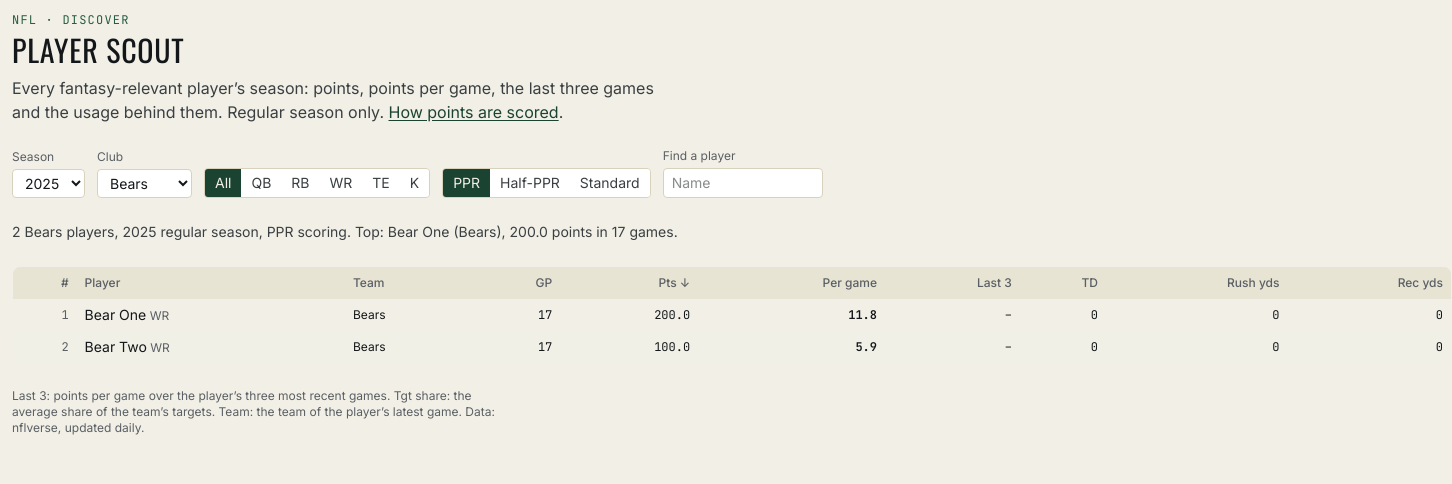
Test: NFL Player Scout club filter › filters by club from the URL and the dropdown, and the summary names the club
This screenshot has width=1452, height=484.
Check: the number of rows with test id "nfl-scout-row" is 2, box [12, 299, 1451, 331]; [12, 331, 1451, 364]
Check: the text with test id "nfl-scout-summary" shows "2 Bears players", box [12, 223, 678, 240]
Select "All clubs" in the dropdown with test id "nfl-scout-club": coordinates (144, 184) [97, 169, 192, 198]
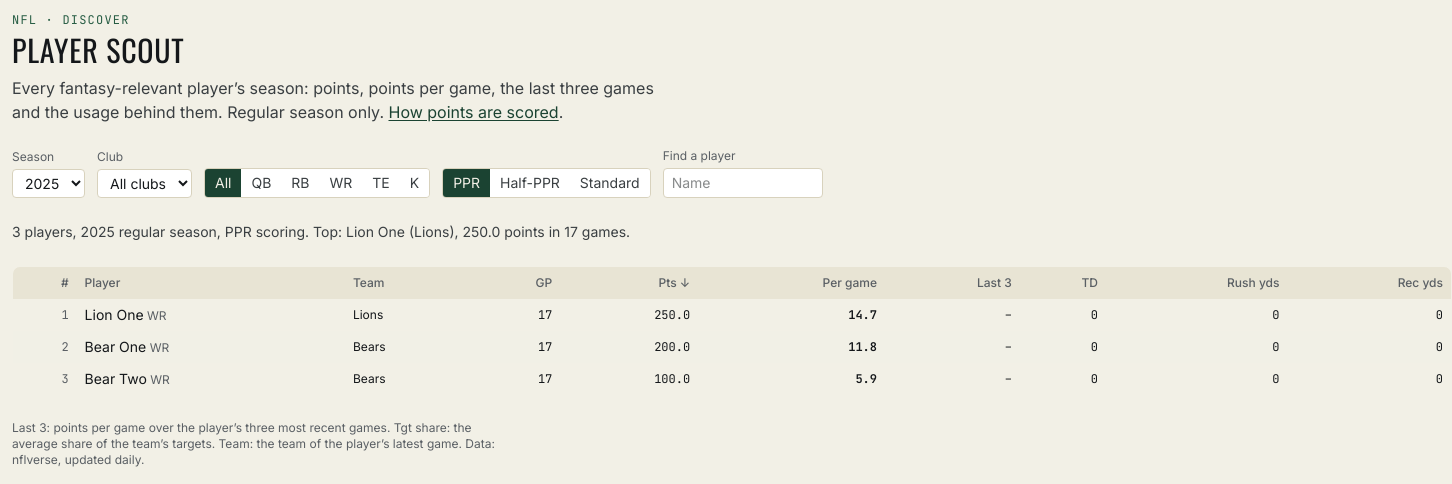
Check: the number of rows with test id "nfl-scout-row" is 3, box [12, 299, 1451, 331]; [12, 331, 1451, 363]; [12, 363, 1451, 396]
Check: the row with test id "nfl-scout-row" shows "Lion One", box [85, 306, 144, 323]
